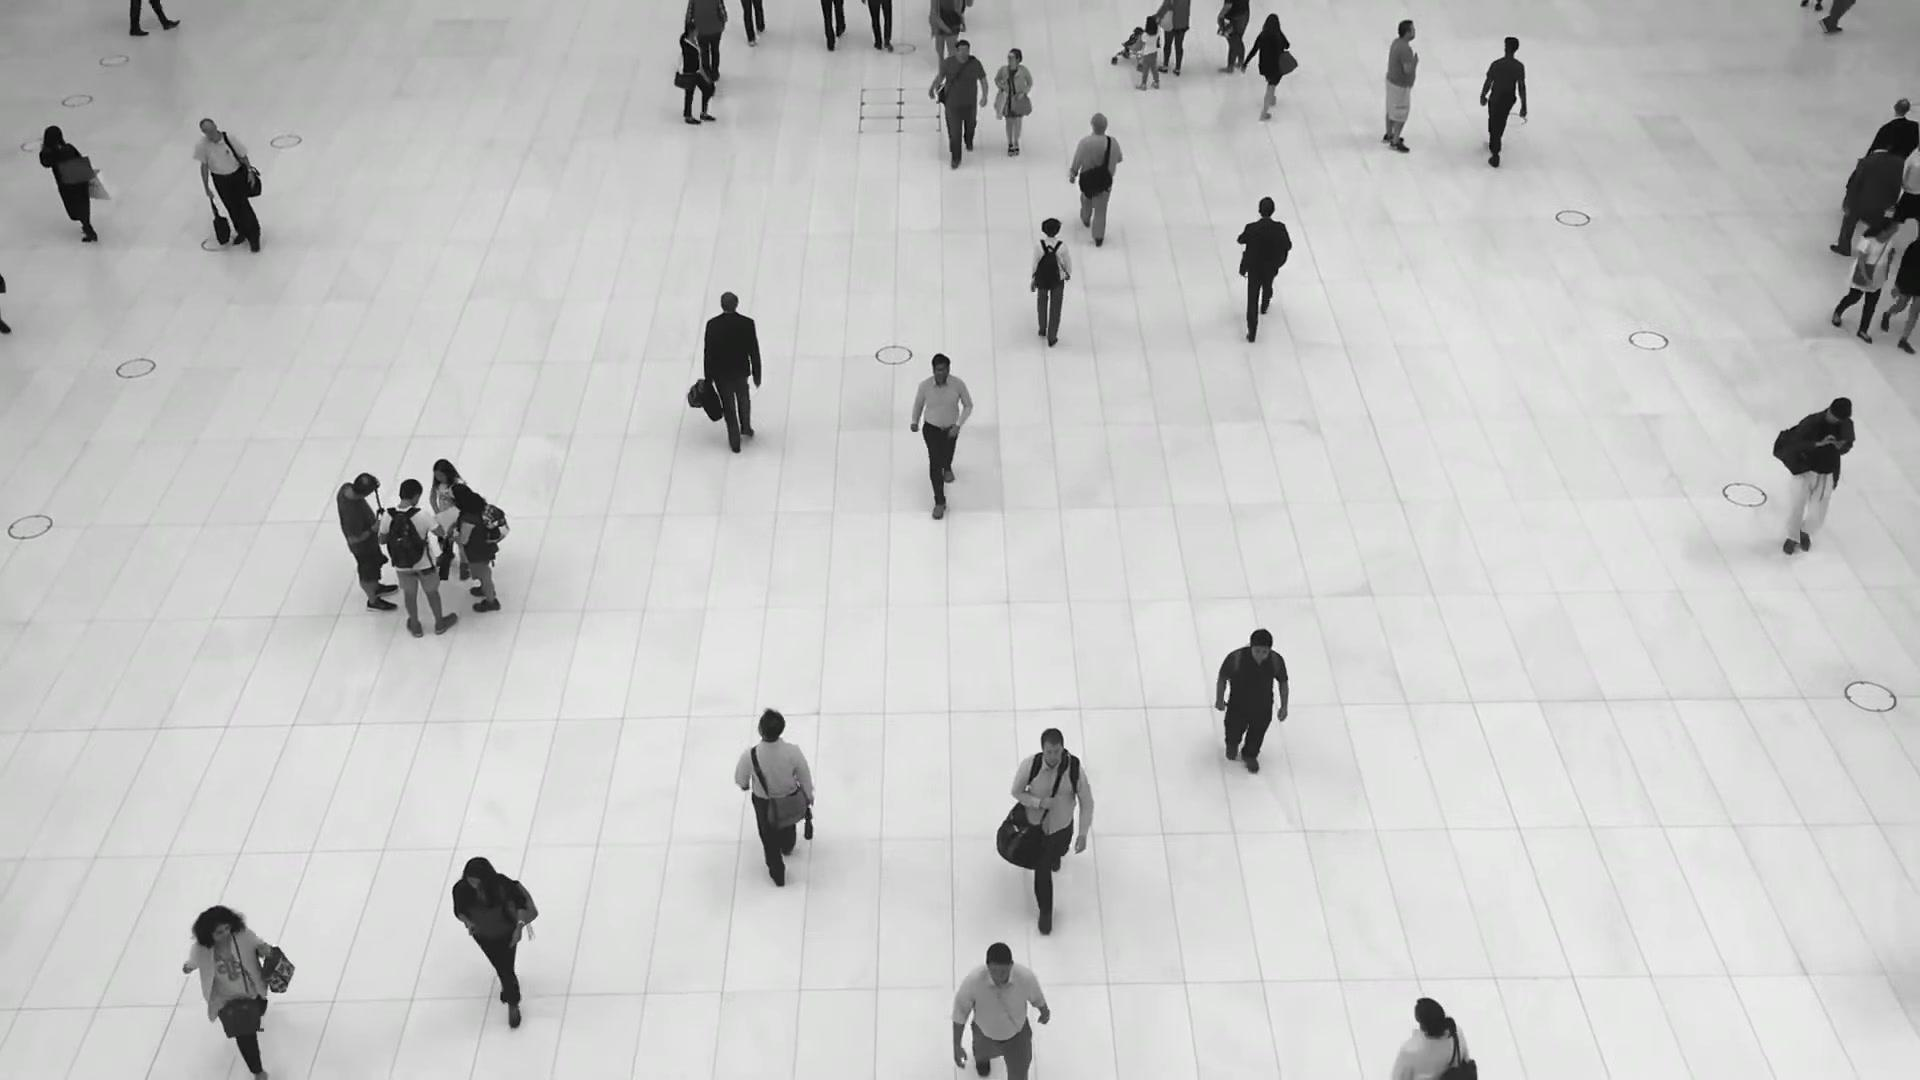person: (179, 898, 275, 1080), (1009, 724, 1093, 923), (735, 711, 817, 897), (951, 937, 1051, 1080), (453, 857, 529, 1042), (377, 477, 459, 637), (1780, 395, 1856, 565), (1209, 626, 1290, 779), (703, 294, 763, 462), (910, 351, 972, 513), (1828, 135, 1907, 258), (194, 118, 261, 257), (335, 467, 400, 611), (1236, 196, 1294, 346), (1832, 214, 1895, 341), (929, 37, 989, 166), (1068, 114, 1124, 253), (39, 125, 98, 245), (449, 482, 501, 612), (1389, 997, 1470, 1080), (1478, 37, 1529, 170), (1027, 220, 1071, 354), (674, 23, 726, 124), (1243, 12, 1291, 120), (1382, 18, 1420, 152), (426, 459, 465, 580), (993, 48, 1034, 160), (684, 0, 728, 81), (1136, 16, 1161, 91)
